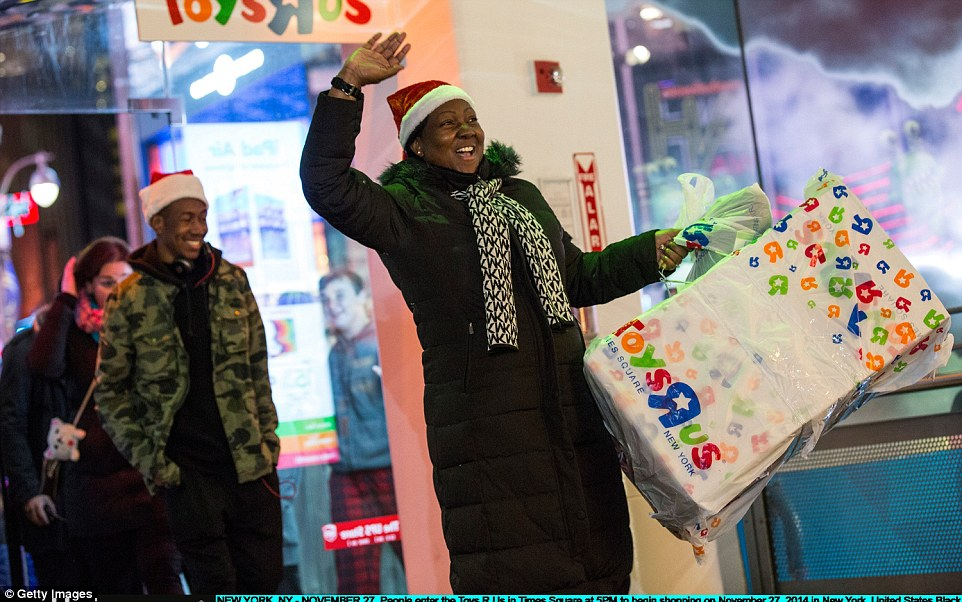Age_20_30: (77, 248, 134, 317)
Age_30_40: (399, 88, 496, 172), (150, 174, 218, 249)
Age_below20: (318, 281, 369, 334)
E_Black: (399, 88, 496, 172), (150, 174, 218, 249)
E_White: (77, 248, 134, 317), (318, 281, 369, 334)
Emotion_Happy: (399, 88, 496, 172), (150, 174, 218, 249), (318, 281, 369, 334)
Emotion_Neutral: (77, 248, 134, 317)
G_ Female: (399, 88, 496, 172), (77, 248, 134, 317)
G_Male: (150, 174, 218, 249), (318, 281, 369, 334)
